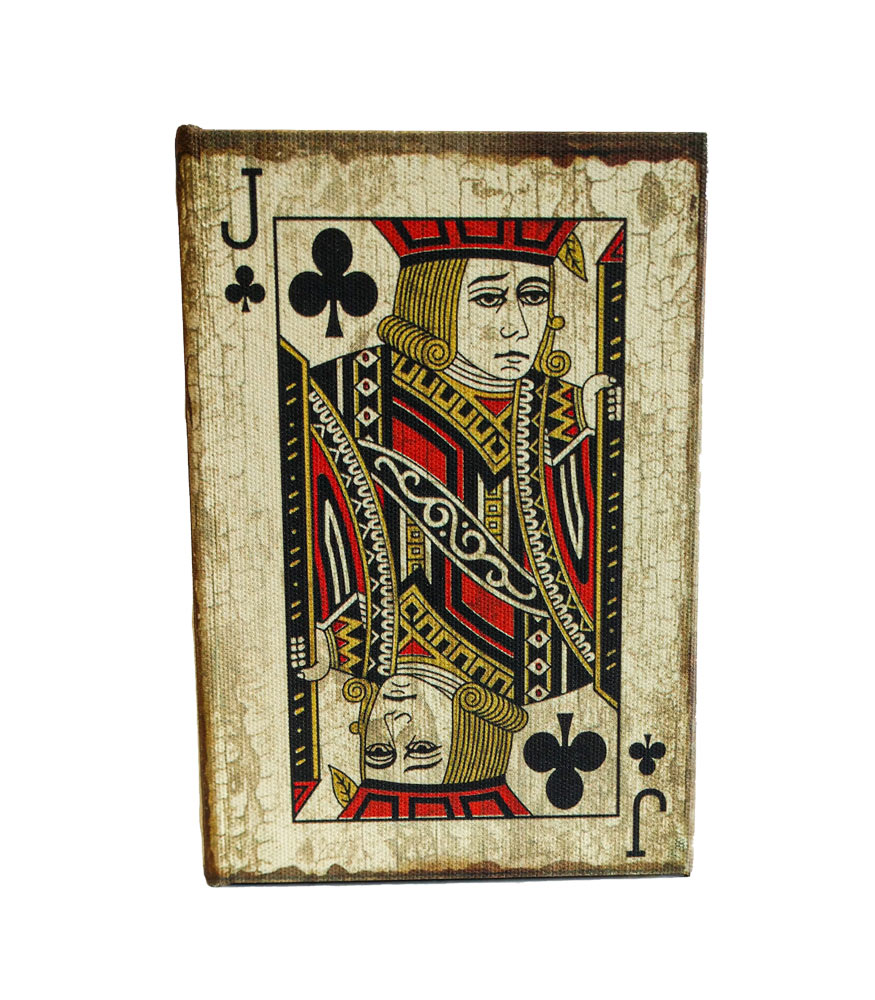jack of clubs: (179, 122, 712, 887)
